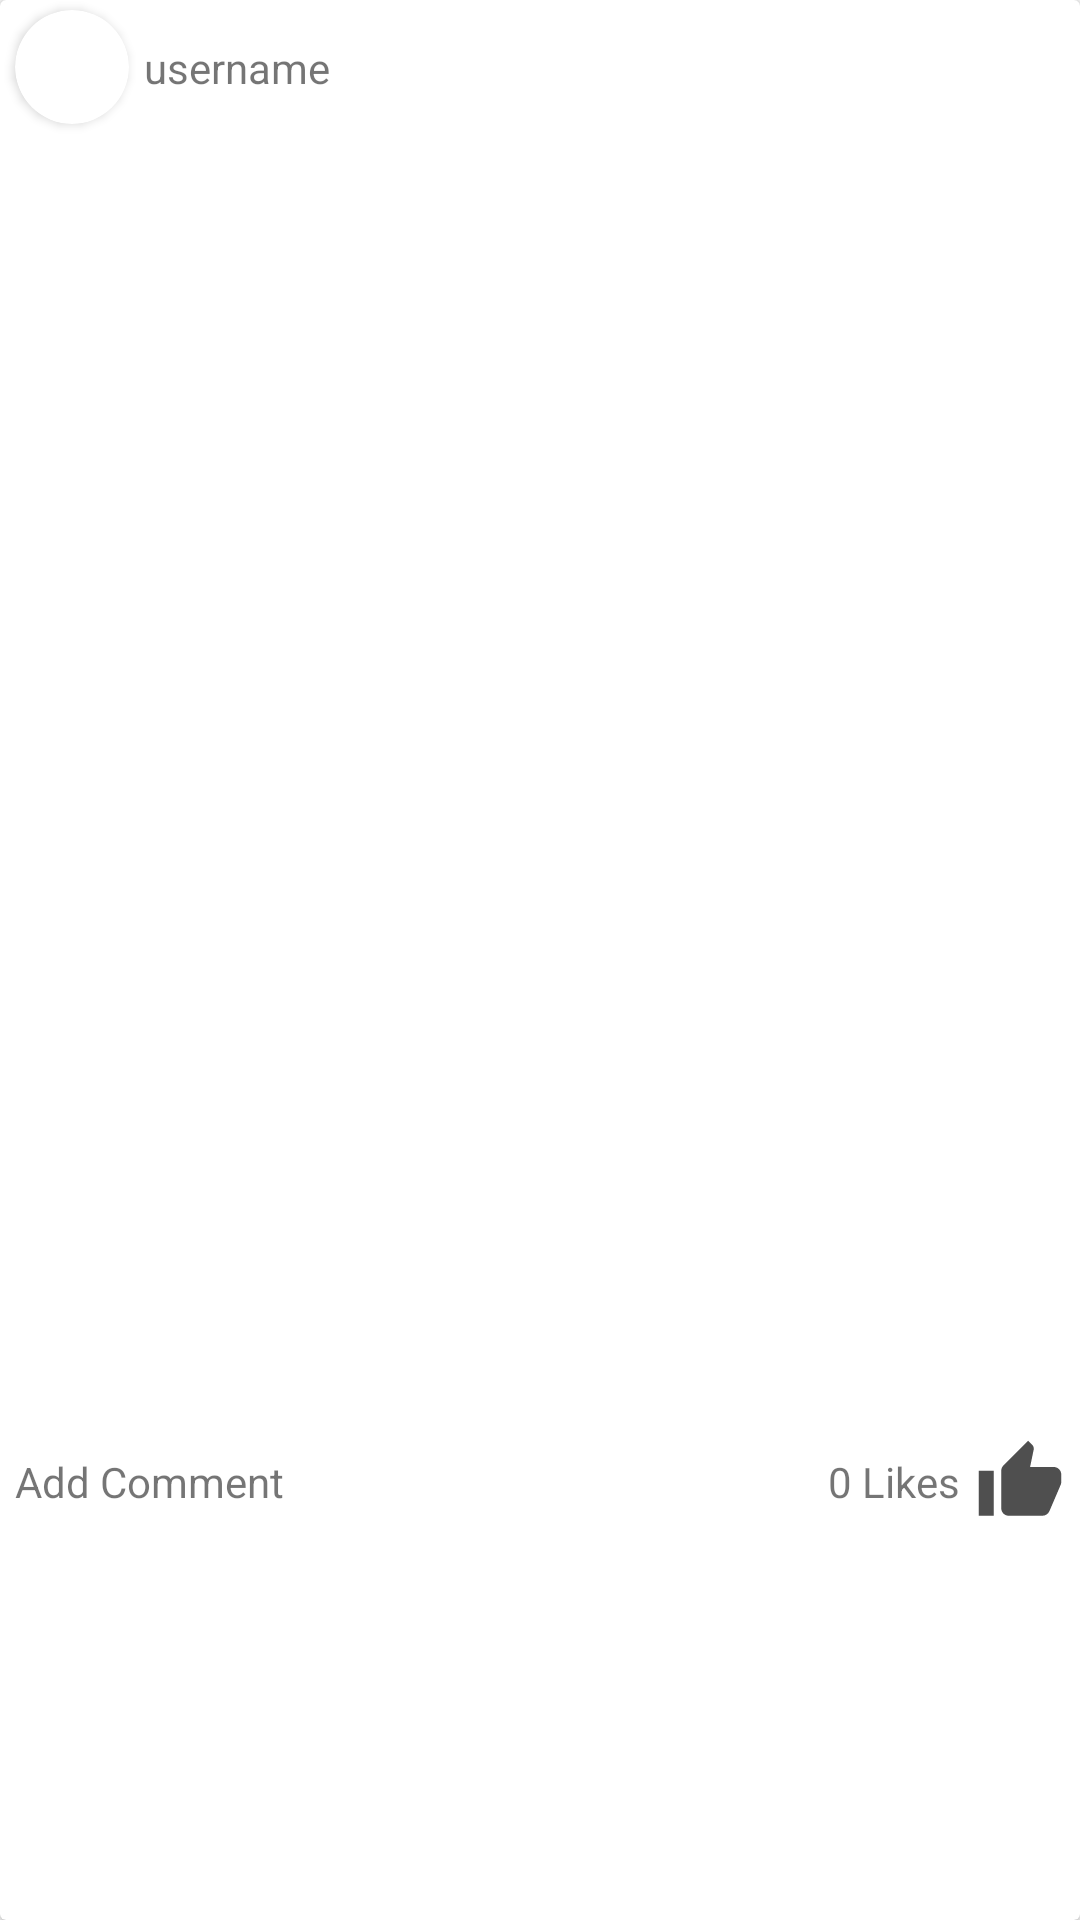

Icon click points for this 1080w x 1920h phone screenshot, format (x=x, y=y):
thumbs up: (x=1020, y=1478)
